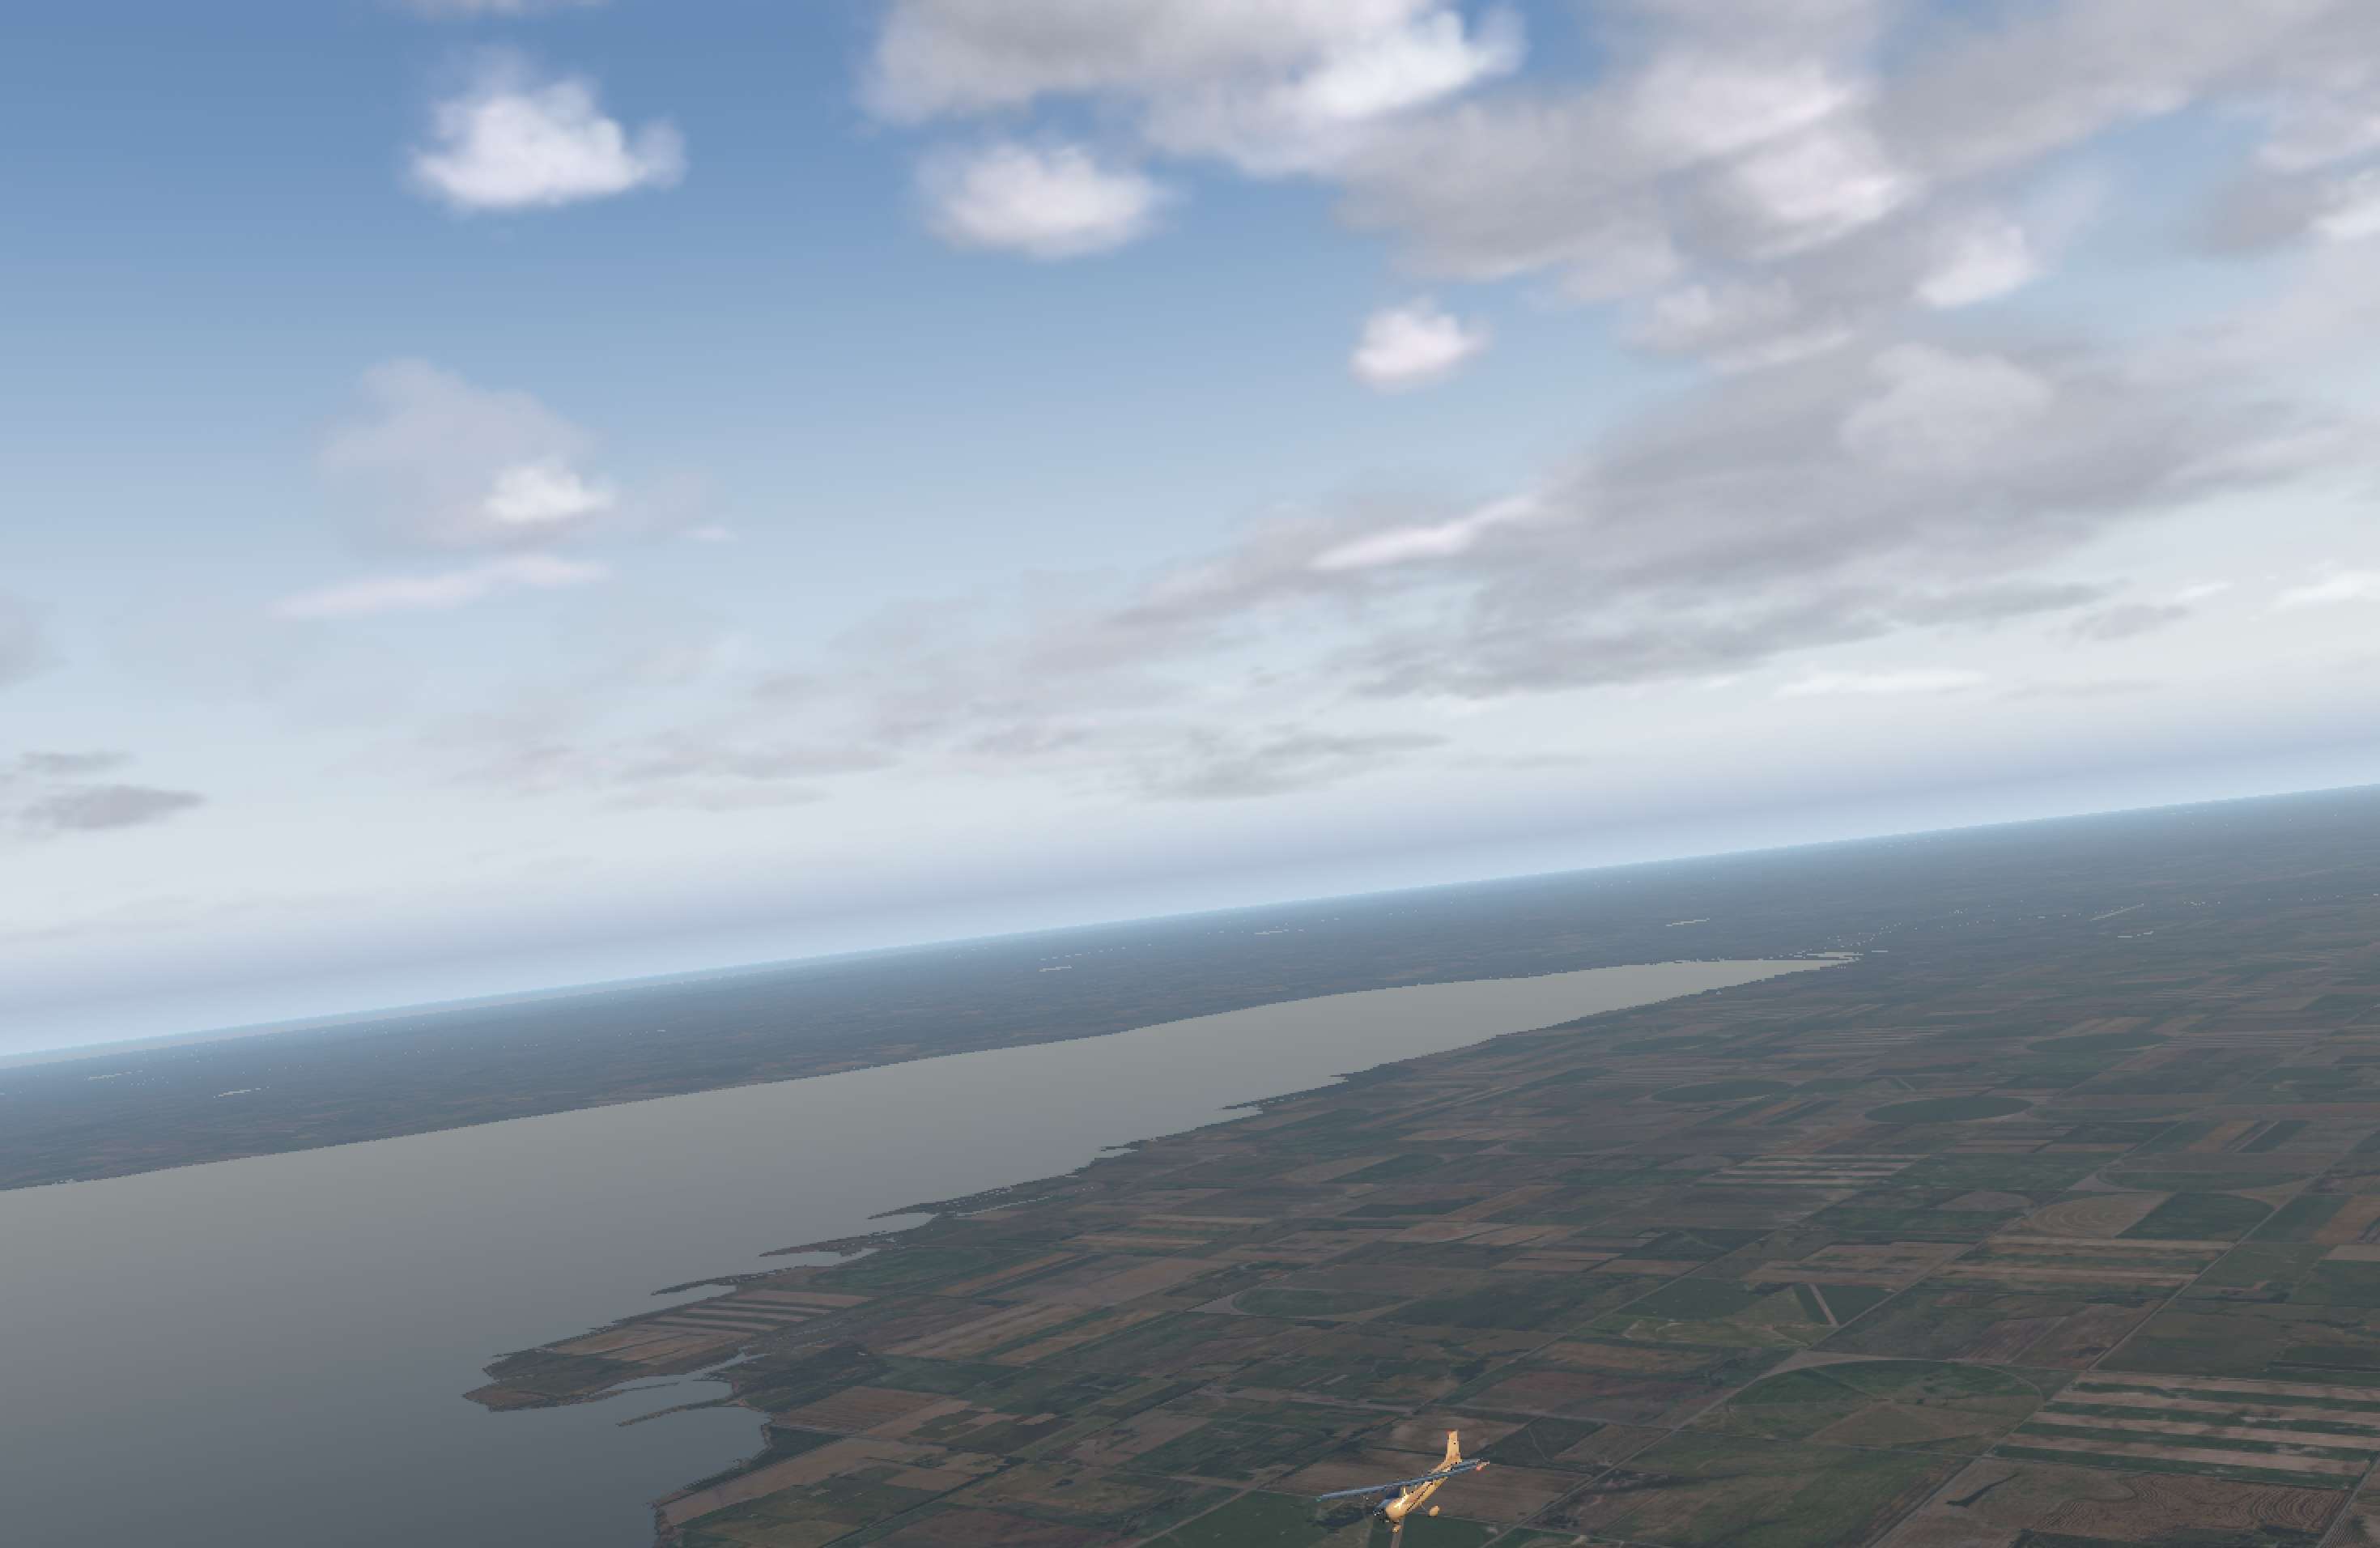aircraft: (1329, 1468, 1476, 1524)
